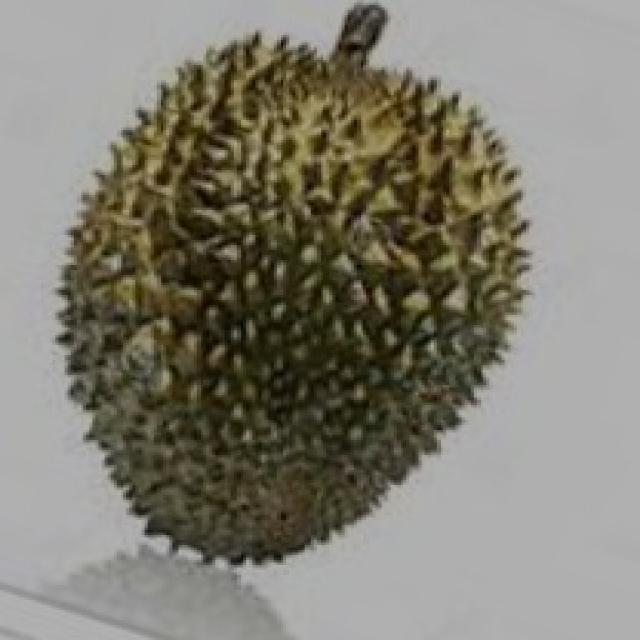fruit: (9, 208, 394, 602), (9, 0, 363, 410)
